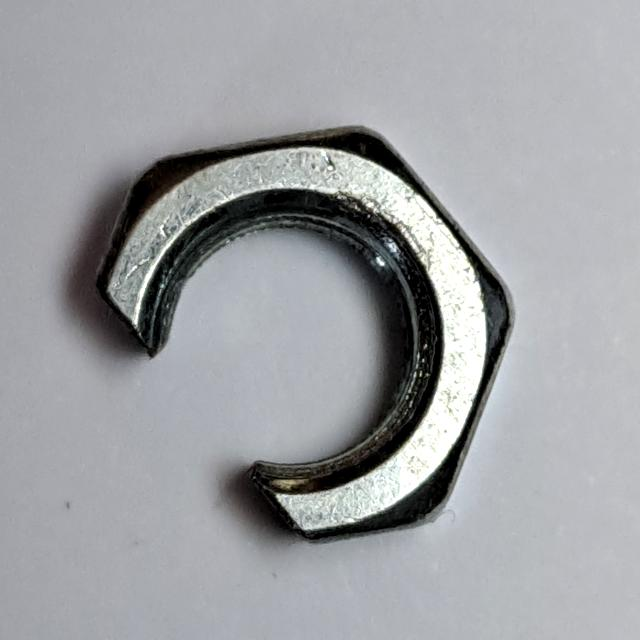Fracture: (87, 100, 527, 553)
